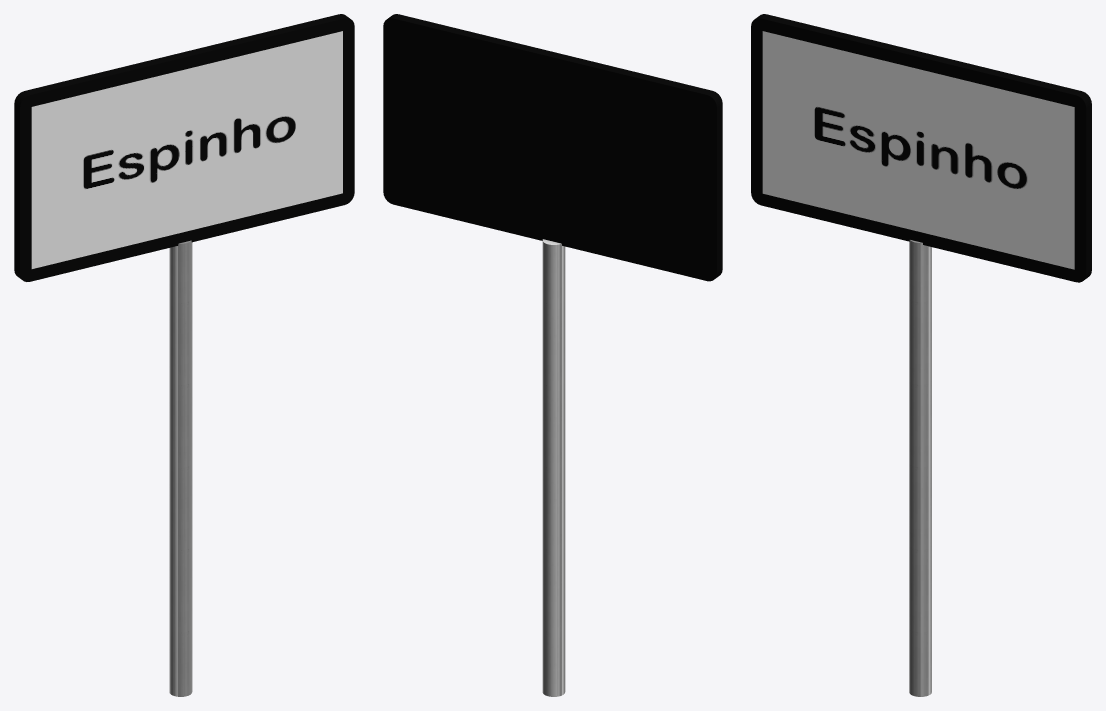
The model's file is Espinho.gltf.
The picture shows the model from 3 angles, left to right: view 1: azimuth 30°, elevation 25°; view 2: azimuth 150°, elevation 25°; view 3: azimuth 330°, elevation 25°; orthographic projection.
Visible parts, largest first — view 1: root; view 2: root; view 3: root.
Boxes of the visible parts, x1=… form: root: x1=14, y1=14, x2=354, y2=696; root: x1=383, y1=14, x2=722, y2=696; root: x1=751, y1=14, x2=1091, y2=696.
Bounding box in the file's own units: 0.4318 × 0.7865 × 0.0254.
Materials: 4 (2 with a texture image).
